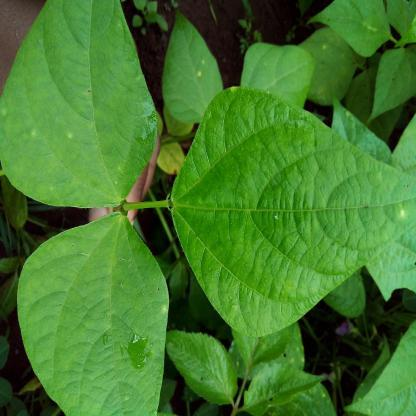Beans_Rust: (175, 84, 416, 334), (0, 0, 158, 207), (16, 211, 168, 416), (164, 16, 221, 124), (298, 28, 365, 103), (240, 45, 316, 106)
